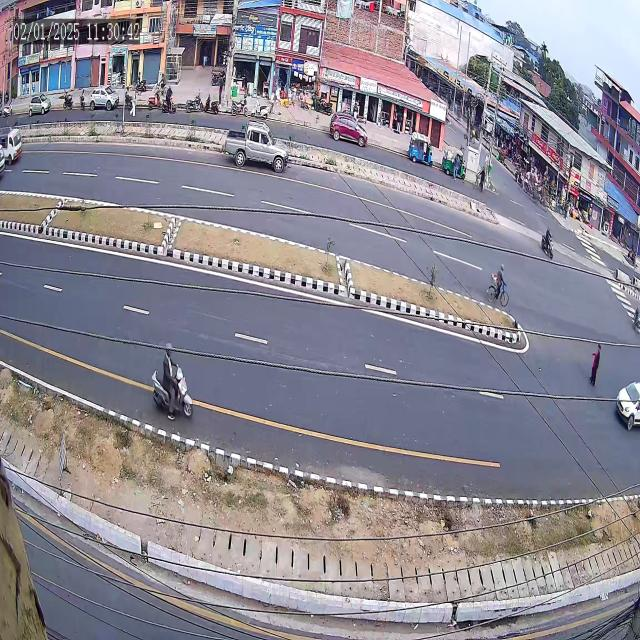auto: (398, 118, 435, 176), (440, 136, 469, 189)
car: (219, 114, 291, 189), (323, 100, 371, 160)
cycle: (477, 255, 514, 307)
motorcycle: (137, 328, 200, 426), (532, 218, 556, 258)
